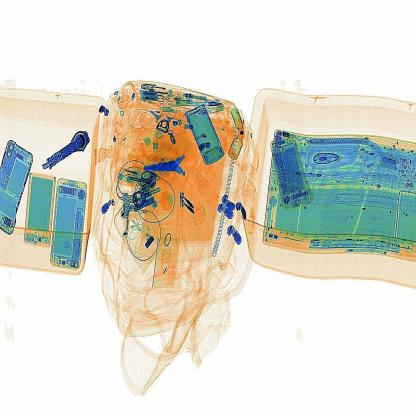gun: (138, 139, 209, 194)
